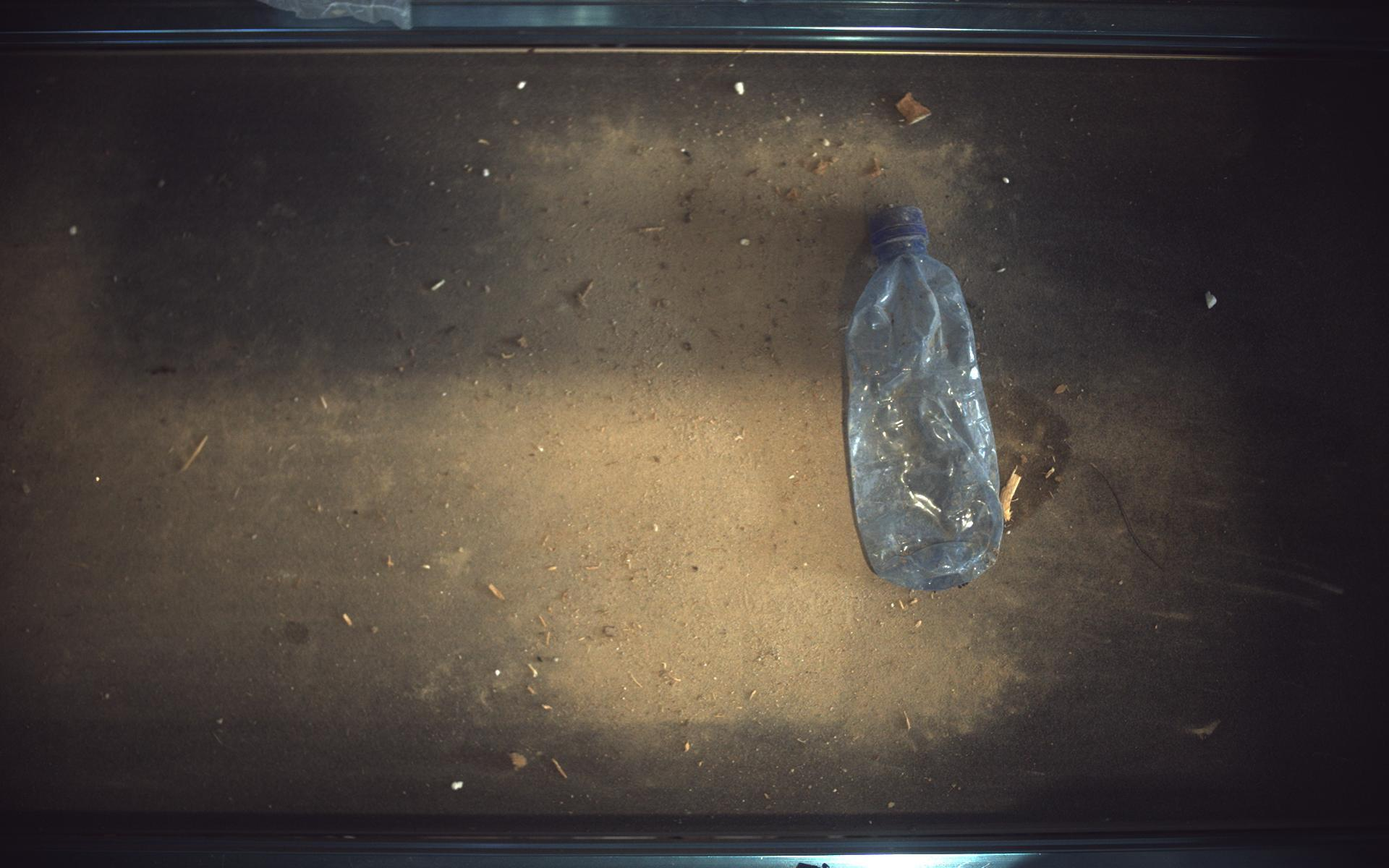general_w: (848, 205, 1006, 591)
